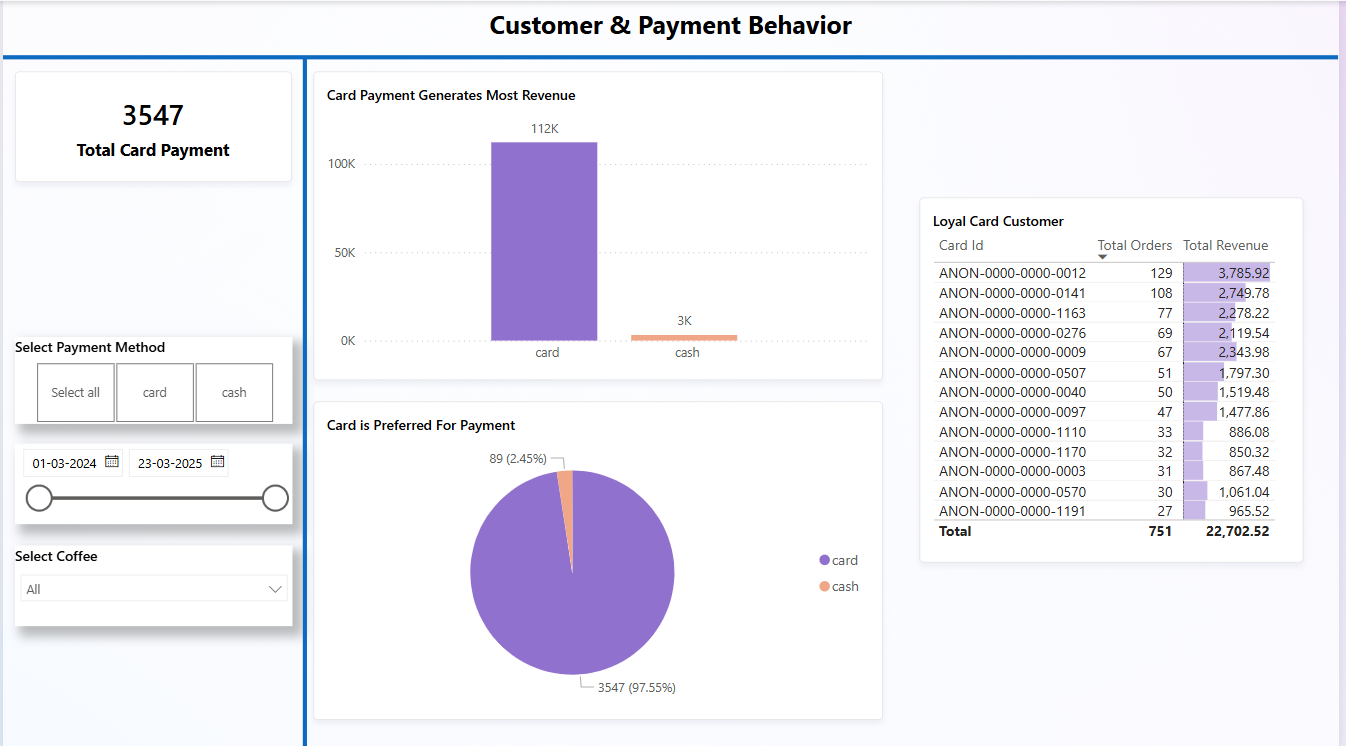

The dashboard page shown, as its layout file describes it:
{"tool":"powerbi","page":{"name":"Customer and Payment Behavior","canvas":[1280,720],"ordinal":2},"visuals":[{"type":"pieChart","title":"Card is Preferred For Payment","fields":{"Category":["Coffee_Sales_Dataset.Payment_method"],"Y":["Coffee_Sales_Dataset.Total_orders"]},"box":[298,384,546,305],"z":0},{"type":"columnChart","title":"Card Payment Generates Most Revenue","fields":{"Category":["Coffee_Sales_Dataset.Payment_method"],"Y":["Coffee_Sales_Dataset.Total_Revenue"]},"box":[298,68,546,296],"z":1000},{"type":"tableEx","title":"Loyal Card Customer","fields":{"Values":["Coffee_Sales_Dataset.Card Id","Coffee_Sales_Dataset.Total_orders","Coffee_Sales_Dataset.Total_Revenue"]},"box":[878,189,368,350],"z":2000},{"type":"slicer","fields":{"Values":["Coffee_Sales_Dataset.Date"]},"box":[12,424,266,77],"z":3000},{"type":"slicer","title":"Select Coffee","fields":{"Values":["Coffee_Sales_Dataset.Coffee_Name"]},"box":[12,522,266,77],"z":4000},{"type":"slicer","title":"Select Payment Method","fields":{"Values":["Coffee_Sales_Dataset.Payment_method"]},"box":[11,322,266,83],"z":5000},{"type":"textbox","box":[335,0,610,47],"z":6000},{"type":"card","title":"Total Orders","fields":{"Values":["Coffee_Sales_Dataset.Total Card Payment"]},"box":[11,68,265,106],"z":7000},{"type":"shape","box":[0,48,1280,13],"z":8000},{"type":"shape","box":[280,55,18,665],"z":9000}]}

Visuals, with their boxes in screenshot pixels (x1, y1, x2, y2), scaled from the page's 1280x720 canvas onto the 1346x746 screenshot:
"Card is Preferred For Payment" pieChart: BBox(313, 398, 888, 714)
"Card Payment Generates Most Revenue" columnChart: BBox(313, 70, 888, 377)
"Loyal Card Customer" tableEx: BBox(923, 196, 1310, 558)
slicer - Coffee_Sales_Dataset.Date: BBox(13, 439, 292, 519)
"Select Coffee" slicer: BBox(13, 541, 292, 621)
"Select Payment Method" slicer: BBox(12, 334, 291, 420)
textbox: BBox(352, 0, 994, 49)
"Total Orders" card: BBox(12, 70, 290, 180)
shape: BBox(0, 50, 1345, 63)
shape: BBox(294, 57, 313, 745)
